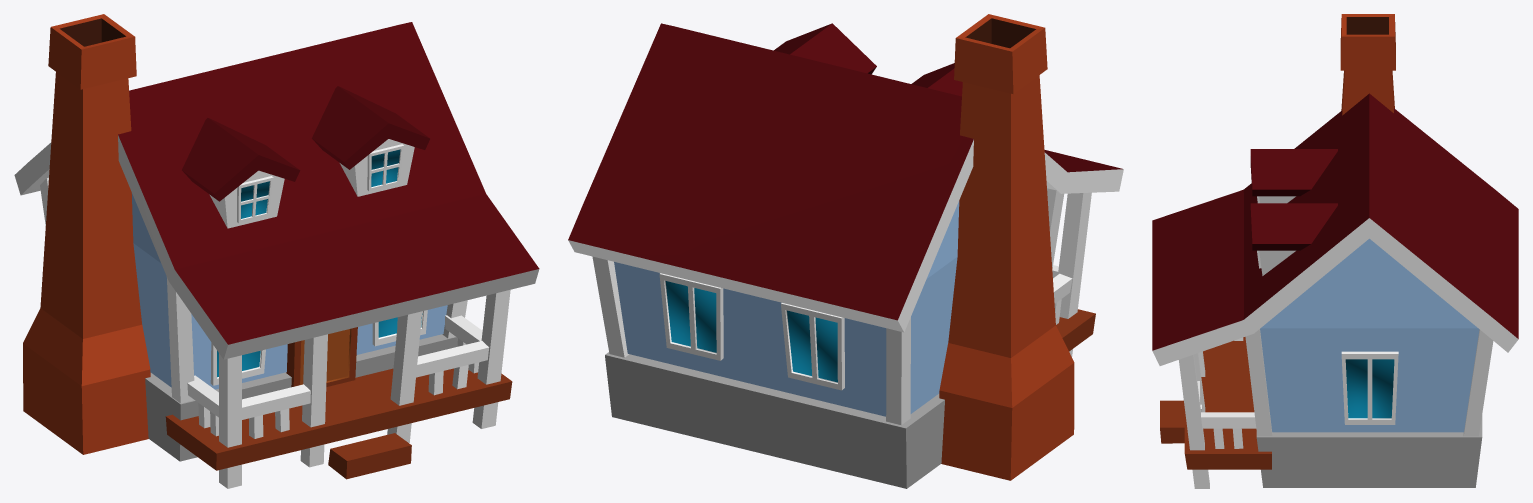
File: Small_House_2.fbx
3 renders of one model, left to right at view 1: azimuth 30°, elevation 25°; view 2: azimuth 150°, elevation 25°; view 3: azimuth 270°, elevation 25°, orthographic. The views are drawn at different scales.
Visible parts, largest first — view 1: Small_House_Roof, Small_House_Chimney, Small_House_Columns, Small_House_Poarch, Small_House_High_Windows, Small House_Walls, Small_House_Base, Small_House_Windows; view 2: Small_House_Roof, Small_House_Chimney, Small_House_Base, Small House_Walls, Small_House_Windows, Small_House_Columns, Small_House_High_Windows, Small_House_Poarch; view 3: Small_House_Roof, Small House_Walls, Small_House_Base, Small_House_High_Windows, Small_House_Poarch, Small_House_Columns, Small_House_Chimney, Small_House_Windows.
Part boxes in pixels (x1=…): Small_House_Roof: x1=14, y1=22, x2=539, y2=359; Small_House_Chimney: x1=23, y1=14, x2=150, y2=454; Small_House_Columns: x1=40, y1=177, x2=510, y2=488; Small_House_Poarch: x1=165, y1=327, x2=512, y2=479; Small_House_High_Windows: x1=182, y1=86, x2=429, y2=228; Small House_Walls: x1=131, y1=192, x2=447, y2=389; Small_House_Base: x1=145, y1=334, x2=457, y2=461; Small_House_Windows: x1=210, y1=310, x2=427, y2=385; Small_House_Roof: x1=568, y1=23, x2=1123, y2=332; Small_House_Chimney: x1=939, y1=14, x2=1074, y2=480; Small_House_Base: x1=605, y1=352, x2=944, y2=488; Small House_Walls: x1=614, y1=201, x2=959, y2=416; Small_House_Windows: x1=659, y1=273, x2=844, y2=390; Small_House_Columns: x1=592, y1=188, x2=1091, y2=424; Small_House_High_Windows: x1=774, y1=23, x2=962, y2=96; Small_House_Poarch: x1=1056, y1=309, x2=1095, y2=351; Small_House_Roof: x1=1152, y1=93, x2=1518, y2=365; Small House_Walls: x1=1260, y1=238, x2=1479, y2=432; Small_House_Base: x1=1256, y1=415, x2=1482, y2=487; Small_House_High_Windows: x1=1250, y1=149, x2=1337, y2=275; Small_House_Poarch: x1=1160, y1=337, x2=1271, y2=469; Small_House_Columns: x1=1179, y1=329, x2=1493, y2=488; Small_House_Chimney: x1=1340, y1=14, x2=1395, y2=115; Small_House_Windows: x1=1341, y1=351, x2=1398, y2=424.
Bounding box in the file's own units: 287 × 299 × 294.
